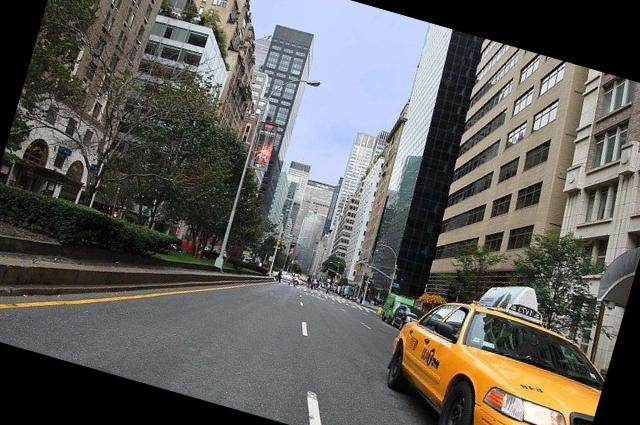taxi: (383, 295, 620, 425)
